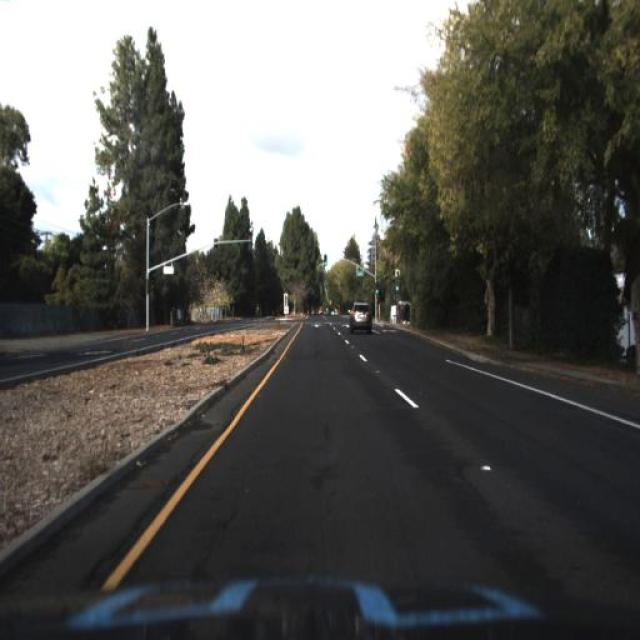car: (348, 301, 374, 335)
trafficLight-GreenLeft: (391, 278, 401, 301), (373, 278, 381, 300), (322, 249, 330, 269)
